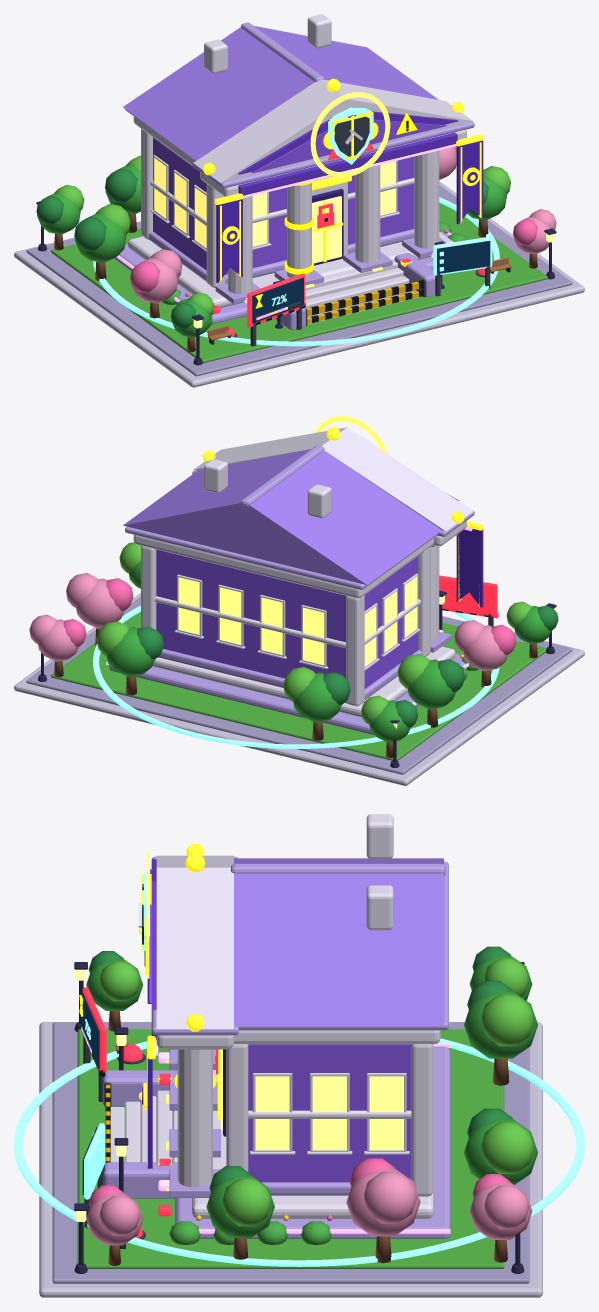
The picture shows the model from 3 angles, top to bottom: view 1: azimuth 30°, elevation 25°; view 2: azimuth 150°, elevation 25°; view 3: azimuth 270°, elevation 25°; orthographic projection. The views are drawn at different scales.
Parts seen in each view (by area): view 1: B01_plot, B01_roof, B01_body, B01_trees_leaf, B01_pediment, B01_columns, B01_base, B01_banners, B01_windows, B01_door, B01_state_recovery_safe_ring, B01_state_recovery_checklist (+7 smaller); view 2: B01_body, B01_roof, B01_plot, B01_trees_leaf, B01_windows, B01_pediment, B01_base, B01_state_recovery_safe_ring, B01_banners, B01_state_incident_sign_violation, B01_trees_trunk, B01_columns (+2 smaller); view 3: B01_plot, B01_roof, B01_trees_leaf, B01_body, B01_base, B01_pediment, B01_windows, B01_state_recovery_safe_ring, B01_columns, B01_props, B01_trees_trunk, B01_state_incident_sign_violation (+4 smaller).
Part boxes in pixels (left/top/right/bottom): B01_plot: left=14, top=181, right=584, bottom=387; B01_roof: left=123, top=14, right=438, bottom=160; B01_body: left=125, top=109, right=474, bottom=287; B01_trees_leaf: left=36, top=146, right=556, bottom=337; B01_pediment: left=193, top=78, right=473, bottom=182; B01_columns: left=215, top=150, right=446, bottom=304; B01_base: left=114, top=232, right=453, bottom=329; B01_banners: left=214, top=134, right=483, bottom=282; B01_windows: left=151, top=155, right=399, bottom=251; B01_door: left=312, top=176, right=351, bottom=265; B01_state_recovery_safe_ring: left=93, top=197, right=499, bottom=346; B01_state_recovery_checklist: left=433, top=237, right=492, bottom=296; B01_body: left=125, top=470, right=474, bottom=706; B01_roof: left=123, top=445, right=441, bottom=584; B01_plot: left=14, top=593, right=584, bottom=785; B01_trees_leaf: left=29, top=542, right=558, bottom=742; B01_windows: left=174, top=573, right=420, bottom=670; B01_pediment: left=193, top=427, right=473, bottom=531; B01_base: left=109, top=646, right=466, bottom=734; B01_state_recovery_safe_ring: left=93, top=605, right=499, bottom=748; B01_banners: left=456, top=521, right=483, bottom=607; B01_state_incident_sign_violation: left=439, top=575, right=497, bottom=626; B01_trees_trunk: left=54, top=628, right=537, bottom=757; B01_columns: left=430, top=545, right=451, bottom=652; B01_plot: left=39, top=1022, right=542, bottom=1297; B01_roof: left=230, top=814, right=445, bottom=1025; B01_trees_leaf: left=86, top=946, right=537, bottom=1245; B01_body: left=151, top=856, right=448, bottom=1196; B01_base: left=103, top=1045, right=450, bottom=1238; B01_pediment: left=141, top=843, right=233, bottom=1031; B01_windows: left=250, top=1073, right=409, bottom=1154; B01_state_recovery_safe_ring: left=14, top=1038, right=584, bottom=1266; B01_columns: left=169, top=1049, right=220, bottom=1197; B01_props: left=74, top=962, right=524, bottom=1273; B01_trees_trunk: left=108, top=1011, right=509, bottom=1265; B01_state_incident_sign_violation: left=81, top=987, right=106, bottom=1101.
Bounding box in the file's own units: 38 × 20.4 × 34.
